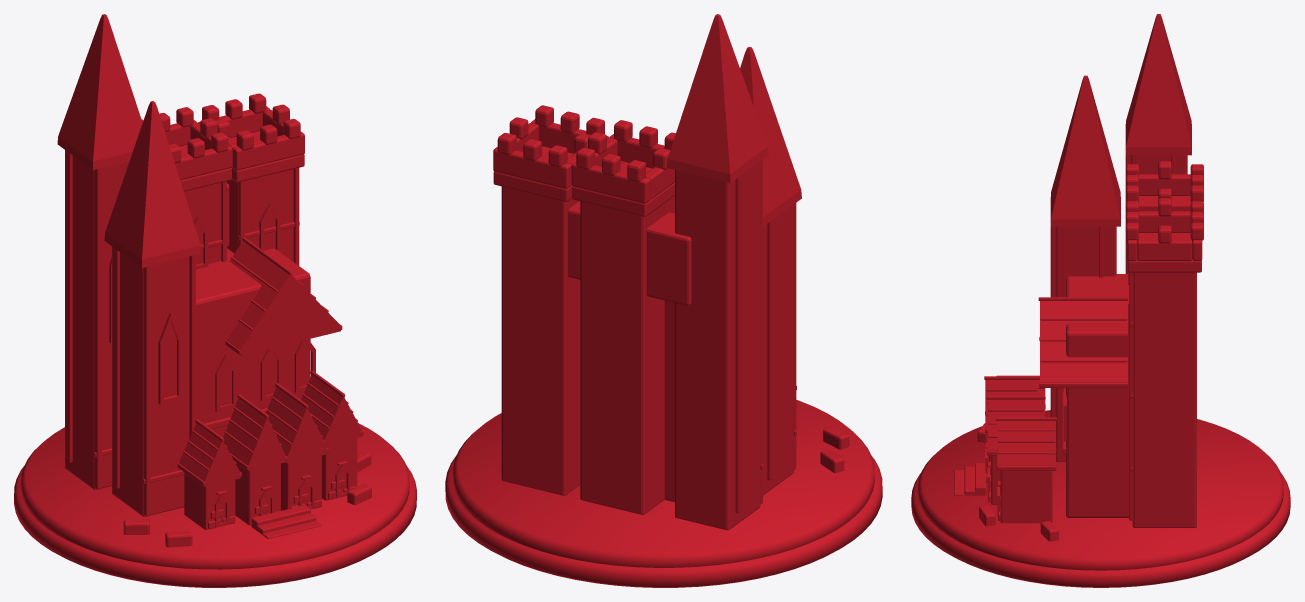
File: metropolis-red.fbx
3 views of the same model, side by side, from view 1: azimuth 30°, elevation 25°; view 2: azimuth 150°, elevation 25°; view 3: azimuth 270°, elevation 25° (orthographic). The views are drawn at different scales.
Visible parts, largest first — view 1: Metropolis_Moulded_Sculpt; view 2: Metropolis_Moulded_Sculpt; view 3: Metropolis_Moulded_Sculpt.
Part boxes in pixels (bbox=[...]): Metropolis_Moulded_Sculpt: bbox=[14, 14, 416, 587]; Metropolis_Moulded_Sculpt: bbox=[445, 14, 882, 587]; Metropolis_Moulded_Sculpt: bbox=[911, 14, 1290, 587].
Bounding box in the file's own units: 0.018 × 0.024 × 0.018.
